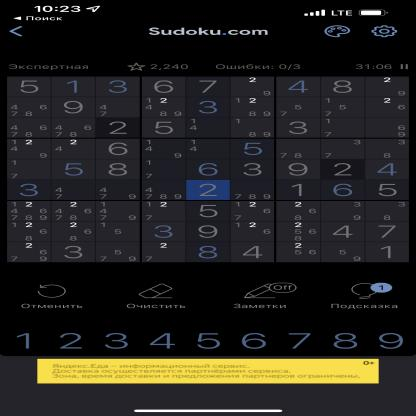sudoku: (1, 73, 415, 267)
